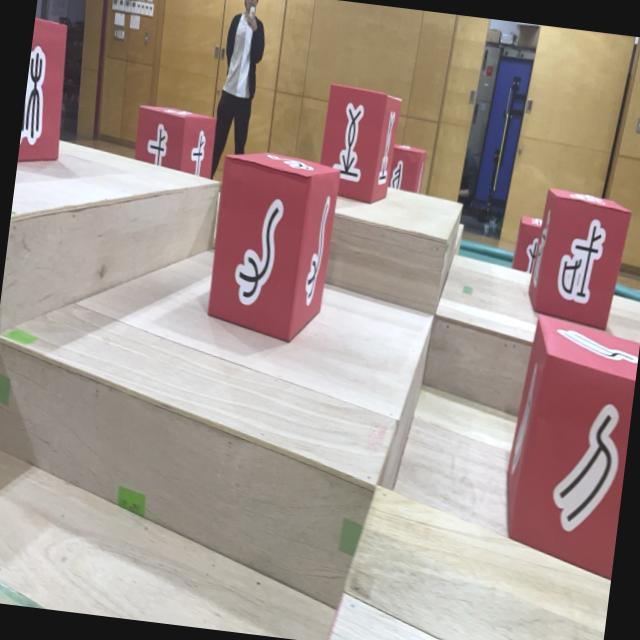10: (547, 396, 626, 537)
11: (390, 158, 404, 190)
13: (231, 192, 285, 309), (302, 195, 331, 308)
2: (19, 41, 54, 149)
5: (554, 215, 608, 308)
6: (524, 236, 538, 275)
7: (332, 101, 369, 183), (376, 109, 396, 187)
9: (145, 121, 169, 166), (188, 129, 207, 177)
fighter: (494, 310, 640, 580), (202, 144, 342, 346), (524, 185, 634, 331), (314, 83, 402, 206), (17, 16, 75, 167), (130, 102, 218, 180), (387, 143, 428, 194), (511, 214, 543, 274)
